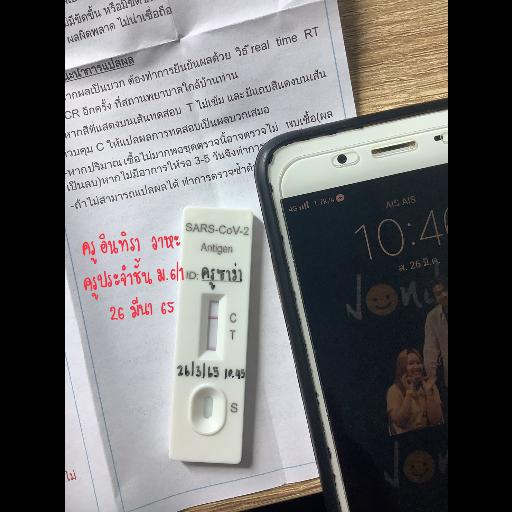Neg: (168, 207, 254, 466)
